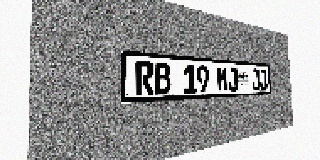1: (182, 64, 197, 93)
9: (196, 65, 209, 93)
B: (154, 62, 171, 95)
J: (227, 67, 238, 92), (251, 69, 260, 91), (259, 69, 267, 90)
M: (217, 66, 228, 92)
R: (135, 61, 154, 95)
